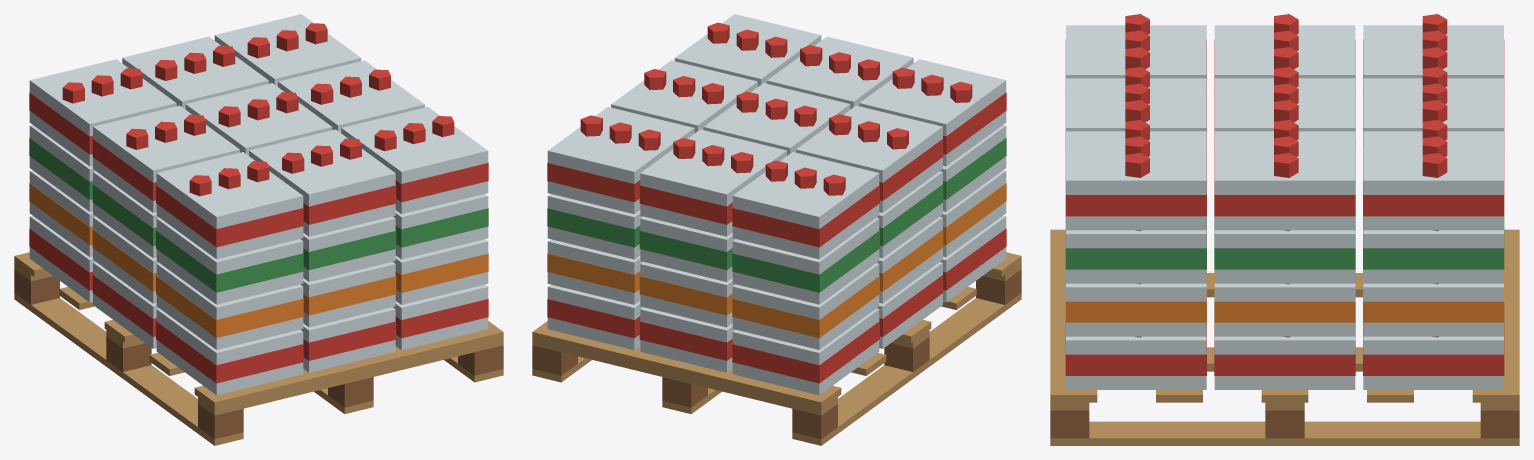
The model's file is Soda_Multipack_Pallet.fbx.
3 renders of one model, left to right at view 1: azimuth 30°, elevation 25°; view 2: azimuth 150°, elevation 25°; view 3: azimuth 270°, elevation 25°, orthographic. The views are drawn at different scales.
Parts seen in each view (by area): view 1: Soda_Multipack_Pallet; view 2: Soda_Multipack_Pallet; view 3: Soda_Multipack_Pallet.
Part boxes in pixels (x1,y1,x2,y2): Soda_Multipack_Pallet: (14, 14, 503, 445); Soda_Multipack_Pallet: (532, 14, 1021, 445); Soda_Multipack_Pallet: (1050, 14, 1519, 445).
Size of the model in its own units: 1 by 0.774 by 1.2.
Materials: 1 (1 with a texture image).
